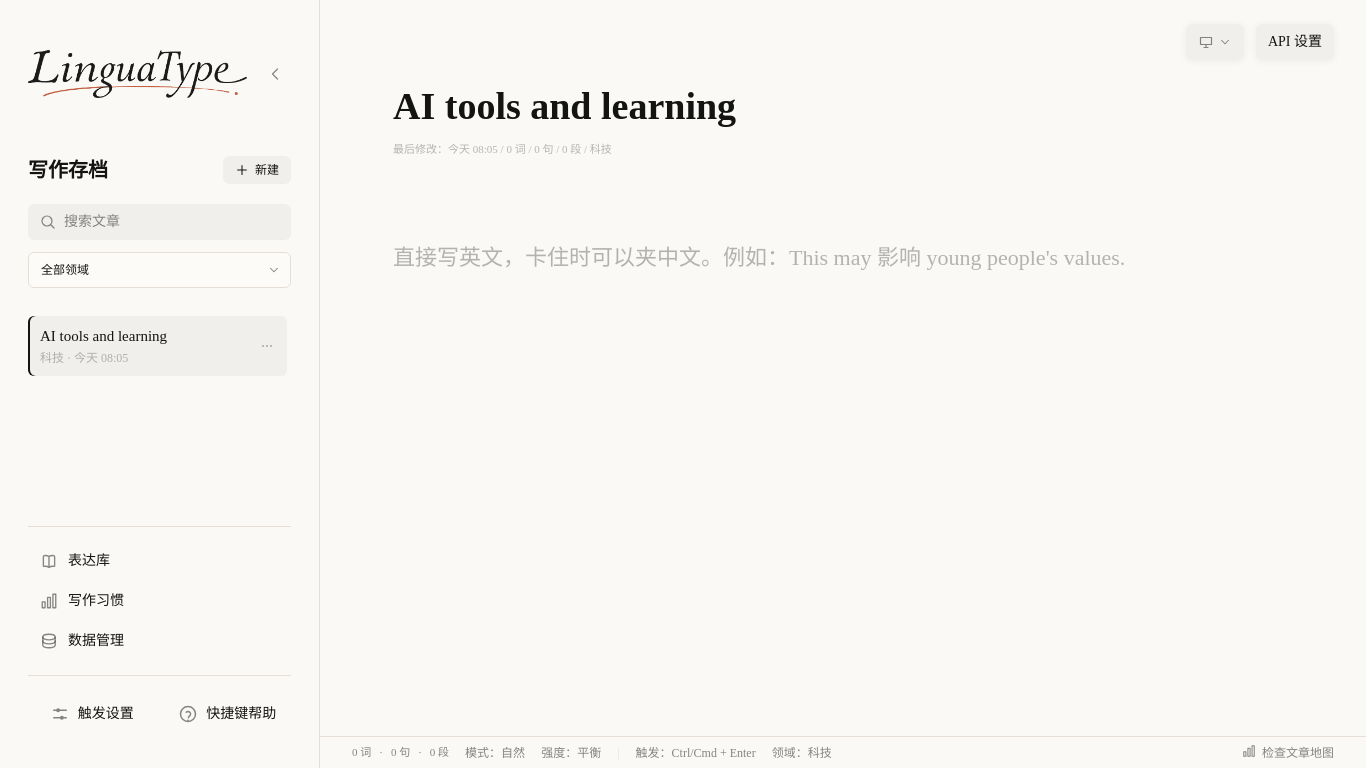
LinguaType v0.2.2 › keeps manual paragraph checking out of the unified settings page
What coordinates should you click on to do the following:
click the button "触发设置"
I would click on:
 (92, 714)
Its box is [28,692,156,736].
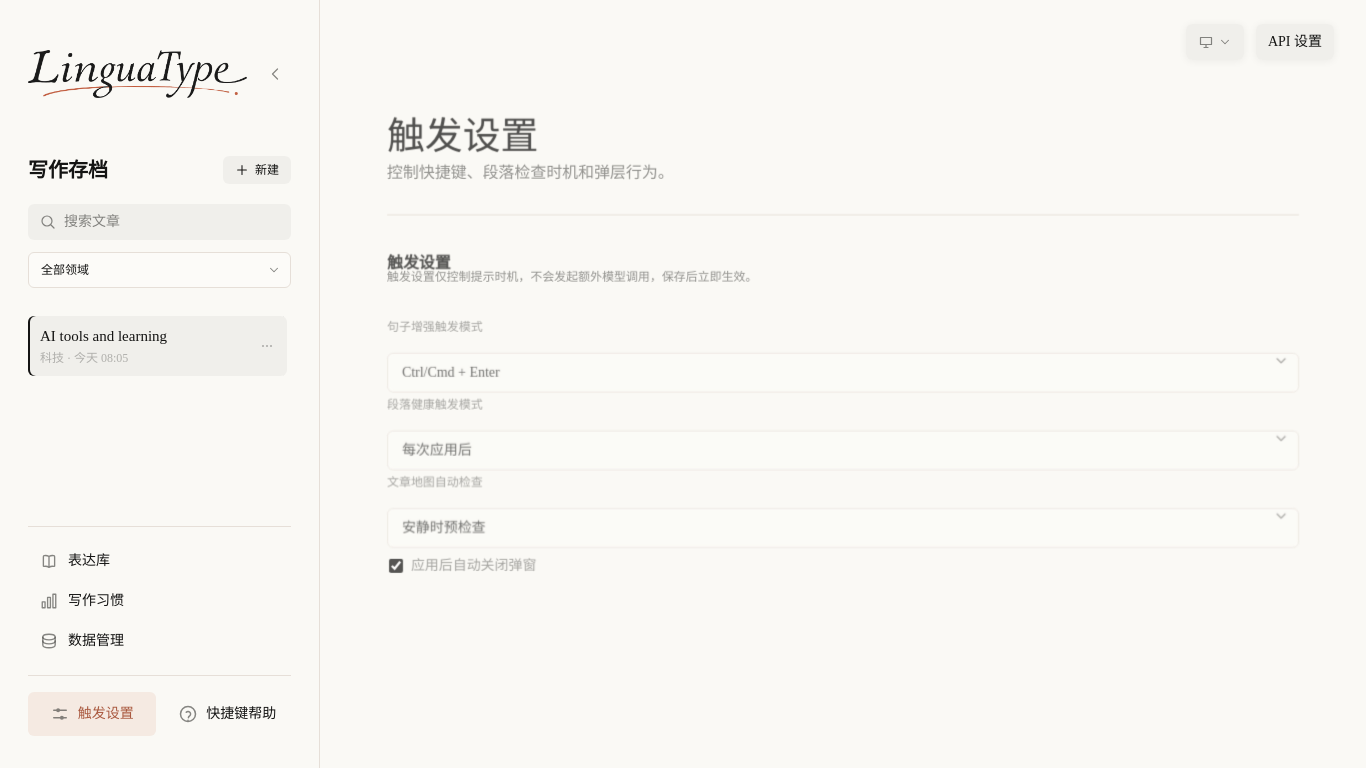
expect the element named "触发设置页面" is shown: met, box [354,88,1332,618]
